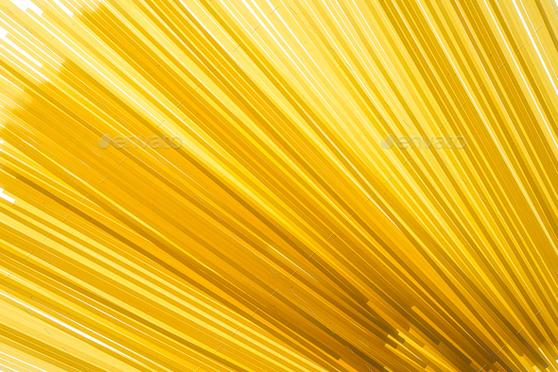spaghetti: (68, 42, 521, 312)
